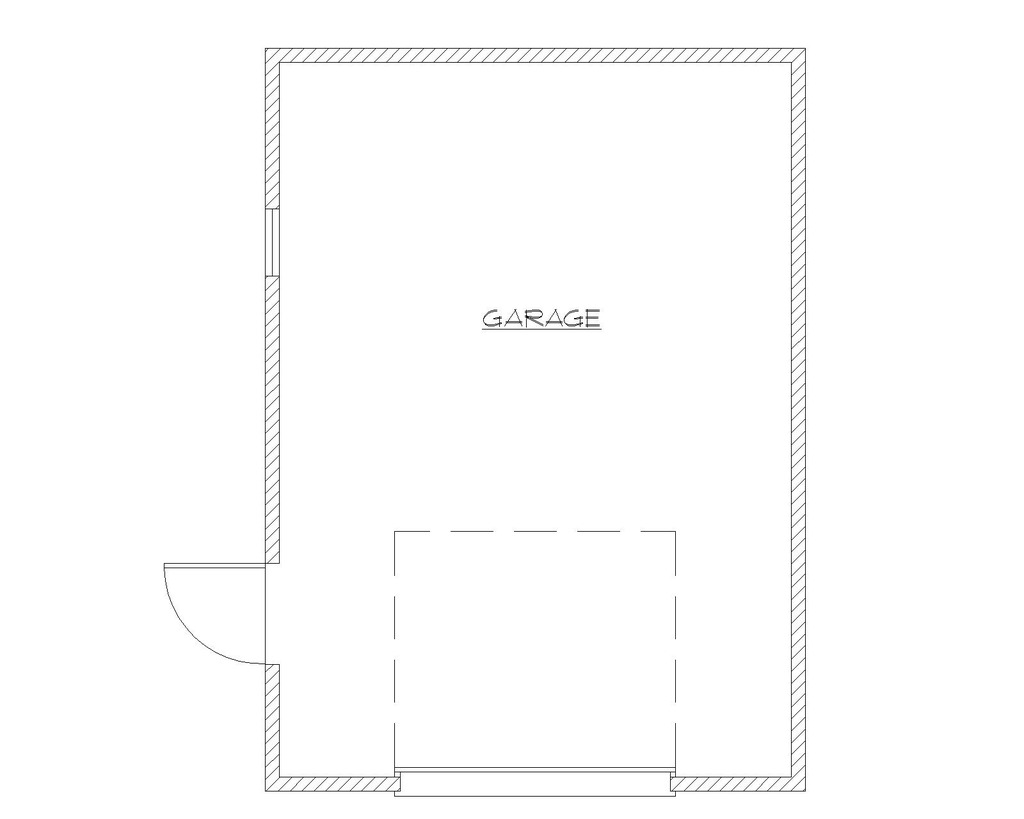door: (158, 555, 271, 665)
window: (258, 205, 283, 276)
